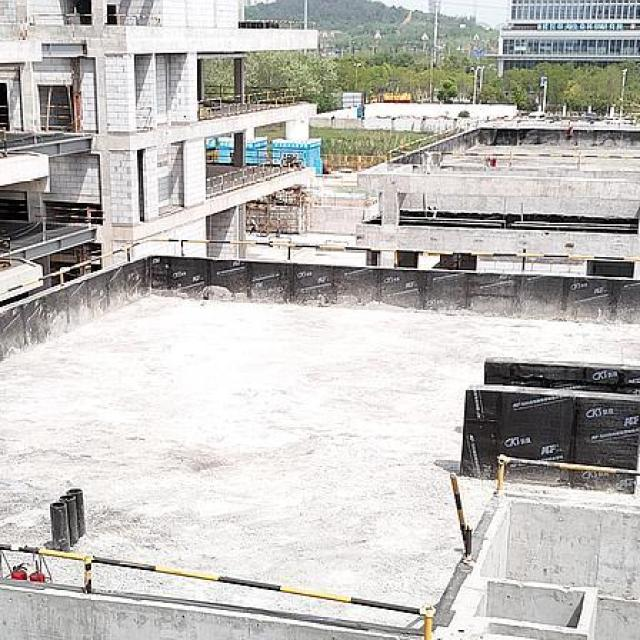edge_guardrail: (0, 538, 440, 640), (0, 234, 640, 304), (385, 117, 640, 170), (495, 451, 640, 491), (197, 85, 299, 121), (205, 159, 275, 197), (449, 472, 472, 557), (33, 205, 106, 229), (487, 118, 640, 128), (39, 87, 71, 132), (27, 6, 92, 26), (106, 4, 161, 26), (237, 18, 317, 32), (245, 149, 306, 162), (205, 146, 235, 164), (204, 84, 235, 97), (0, 104, 10, 125)
